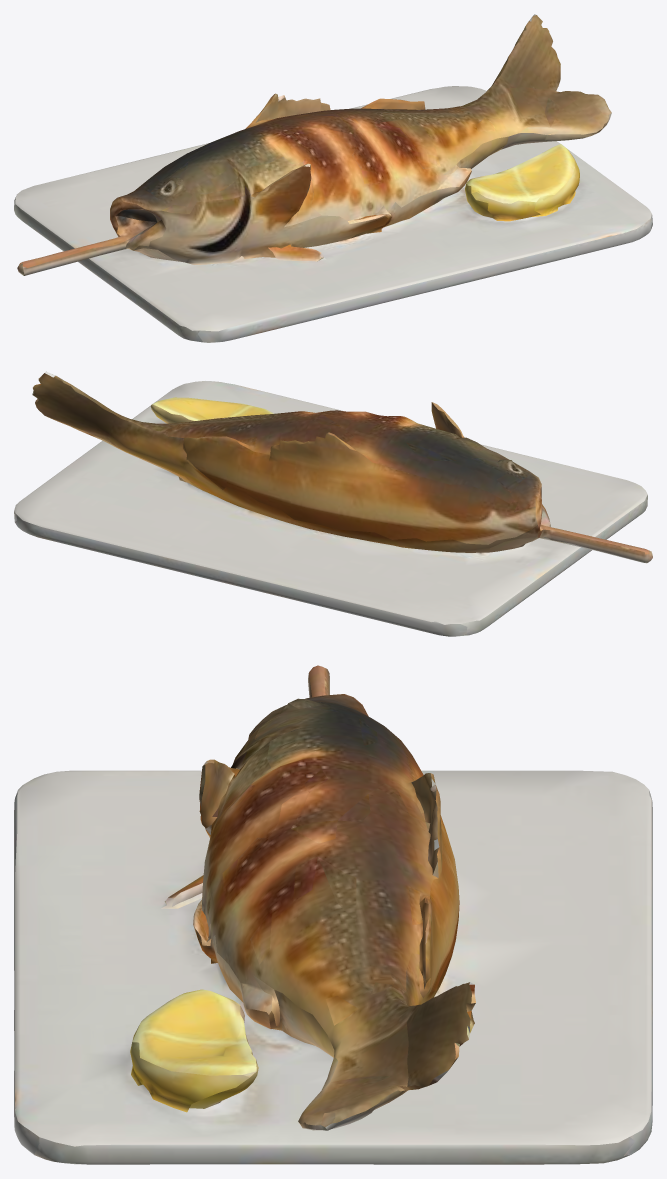
File: fish_grill.glb
The picture shows the model from 3 angles, top to bottom: view 1: azimuth 30°, elevation 25°; view 2: azimuth 150°, elevation 25°; view 3: azimuth 270°, elevation 25°; orthographic projection. The views are drawn at different scales.
Parts seen in each view (by area): view 1: item_fish_grill; view 2: item_fish_grill; view 3: item_fish_grill.
Boxes of the visible parts, x1,y1,x2,y2 form: item_fish_grill: (14,14,652,342); item_fish_grill: (14,371,652,636); item_fish_grill: (14,665,652,1164).
Bounding box in the file's own units: 1 × 0.1854 × 0.5704.
Materials: 1 (1 with a texture image).
